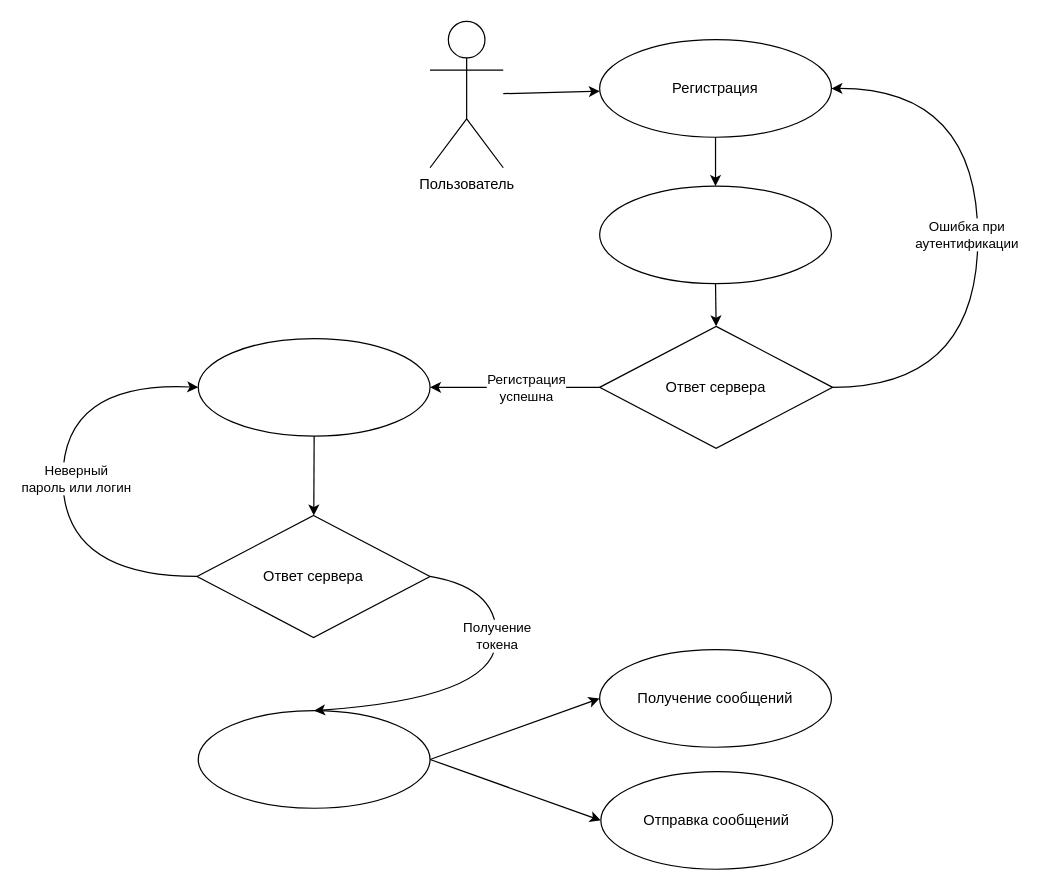
The diagram is 1039 pixels wide and 891 high, and some of its shapes have lost their labels. Each missing label, with the centre of its shape:
Авторизация: (x=313, y=386)
Запрос на сервер: (x=714, y=234)
Подключение к серверу: (x=313, y=758)
